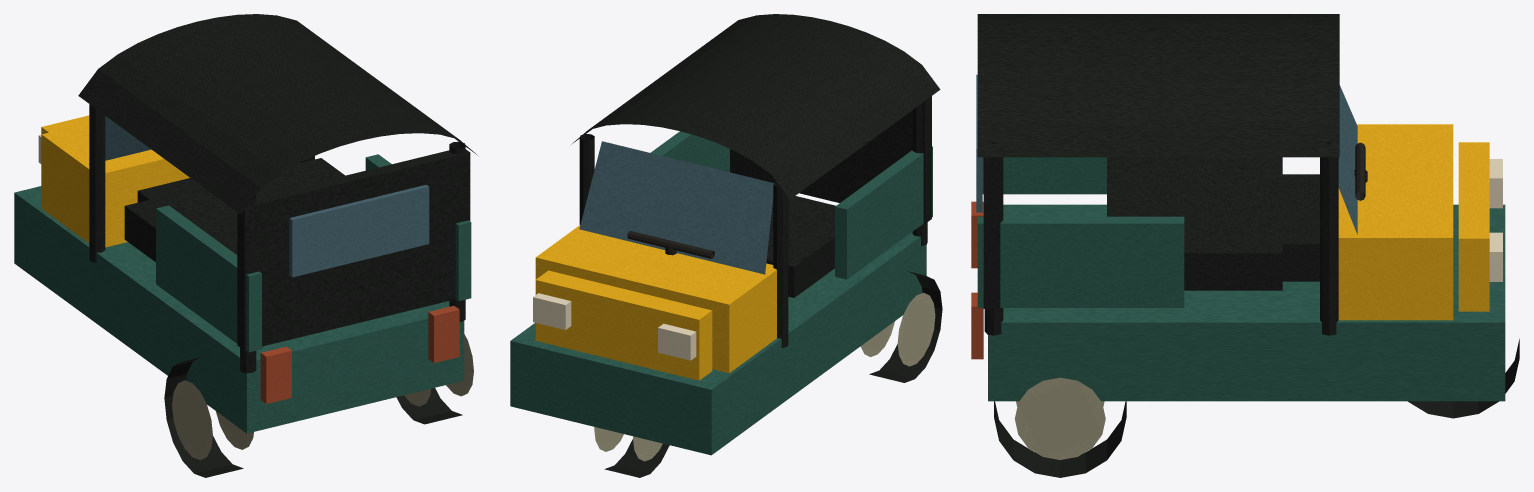
Rendered from auto_rickshaw.glb.
The picture shows the model from 3 angles, left to right: view 1: azimuth 30°, elevation 25°; view 2: azimuth 150°, elevation 25°; view 3: azimuth 270°, elevation 25°; orthographic projection. The views are drawn at different scales.
Visible parts, largest first — view 1: HyderabadAutoRickshaw; view 2: HyderabadAutoRickshaw; view 3: HyderabadAutoRickshaw.
Part boxes in pixels (x1,y1,x2,y2): HyderabadAutoRickshaw: (14,14,477,477); HyderabadAutoRickshaw: (510,14,942,477); HyderabadAutoRickshaw: (971,14,1519,477).
Size of the model in its own units: 1.62 by 1.95 by 2.65.
1 material, 1 textured.
